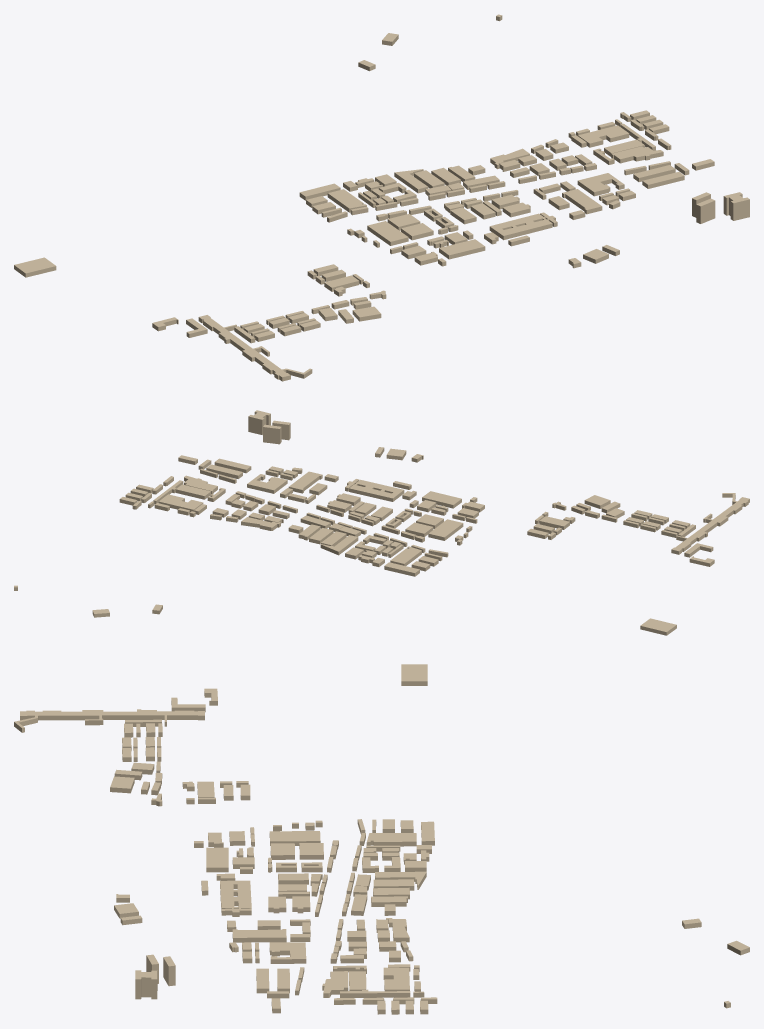
The model's file is overview-estimated--6_7.glb.
The picture shows the model from 3 angles, top to bottom: view 1: azimuth 30°, elevation 25°; view 2: azimuth 150°, elevation 25°; view 3: azimuth 270°, elevation 25°; orthographic projection. The views are drawn at different scales.
Size of the model in its own units: 1901 by 51.13 by 1712.
